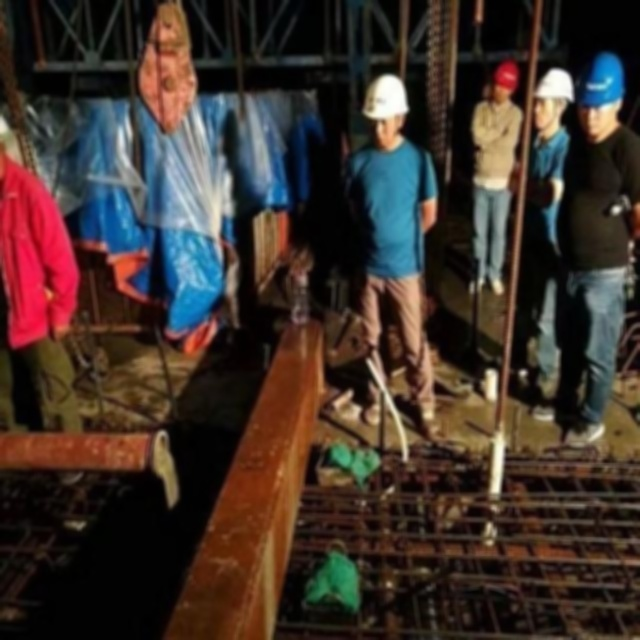Con_Casco: (575, 54, 621, 133), (361, 73, 410, 140)
Sin_Chaleco: (352, 142, 429, 273)
